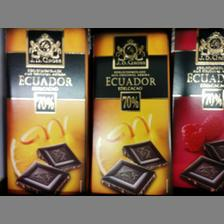Schokolade: (4, 28, 88, 191), (90, 32, 170, 192), (168, 27, 220, 189)
